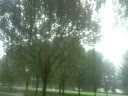window: (13, 82, 27, 95)
